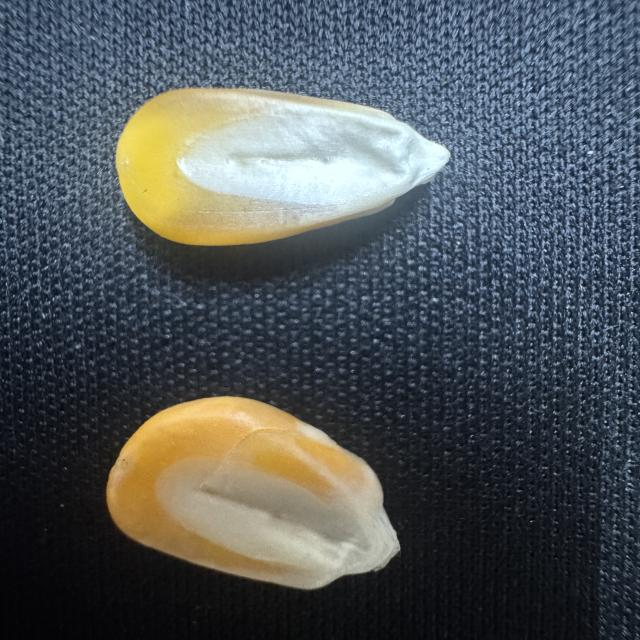Good-Seed: (96, 386, 406, 600), (106, 77, 456, 253)
